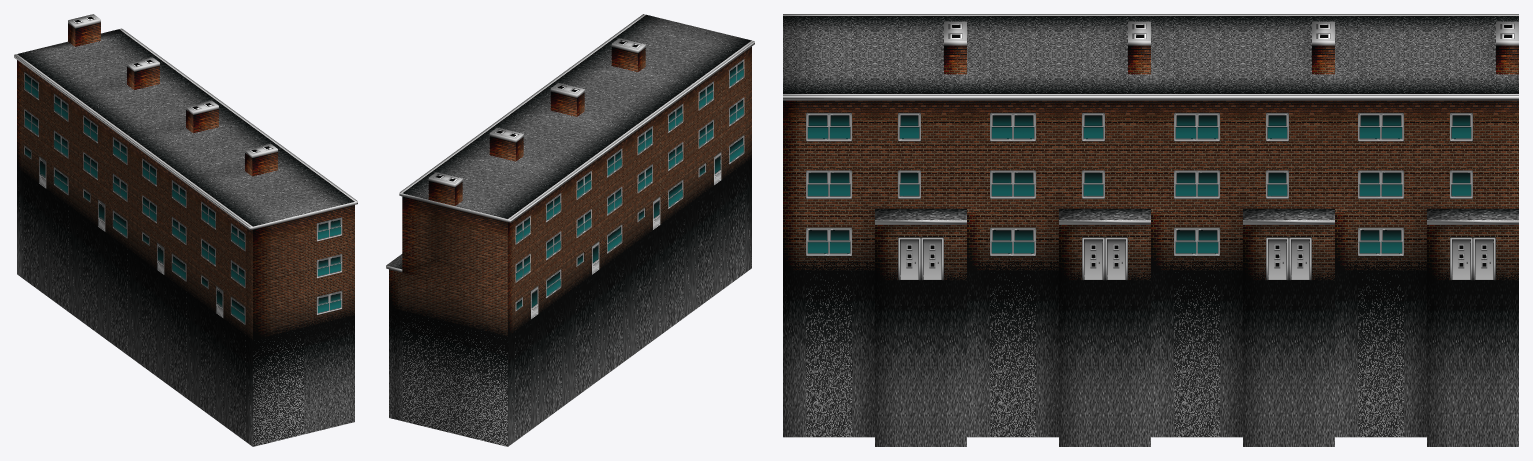
The model's file is maisonet_mod1_3a.fbx.
3 views of the same model, side by side, from view 1: azimuth 30°, elevation 25°; view 2: azimuth 150°, elevation 25°; view 3: azimuth 270°, elevation 25° (orthographic). The views are drawn at different scales.
Parts seen in each view (by area): view 1: maisonet_mod_1_3a; view 2: maisonet_mod_1_3a; view 3: maisonet_mod_1_3a.
Boxes of the visible parts, box(x1,y1,x2,y2) form: maisonet_mod_1_3a: box(14, 14, 357, 446); maisonet_mod_1_3a: box(386, 14, 754, 446); maisonet_mod_1_3a: box(783, 14, 1518, 446).
Size of the model in its own units: 1062 by 2033 by 3600.
